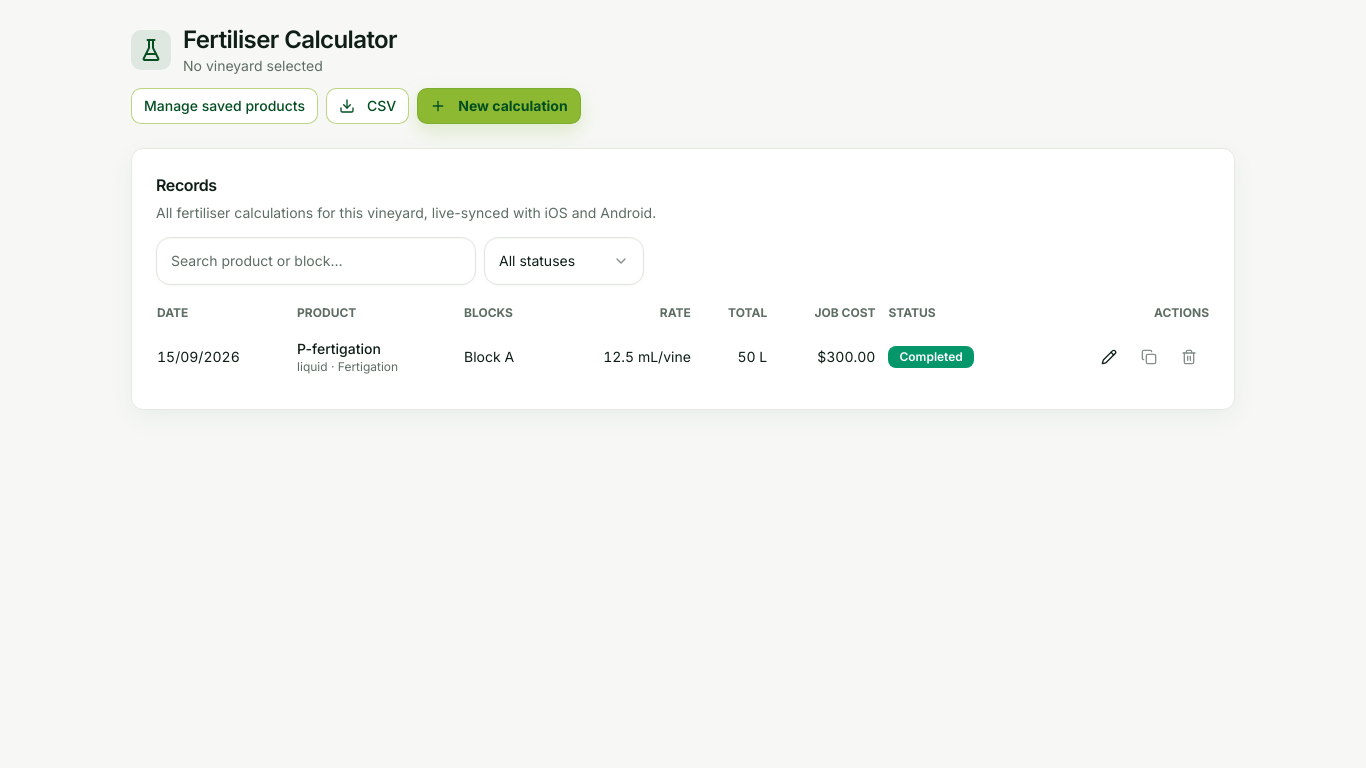
it: opening an unsupported record › fertigation and unknown modes are equally read-only
The width and height of the screenshot is (1366, 768).
Later steps or results of the test are not shown.
Step 1. Click the button titled "View (read-only" → (1109, 357), box [1089, 337, 1129, 377]
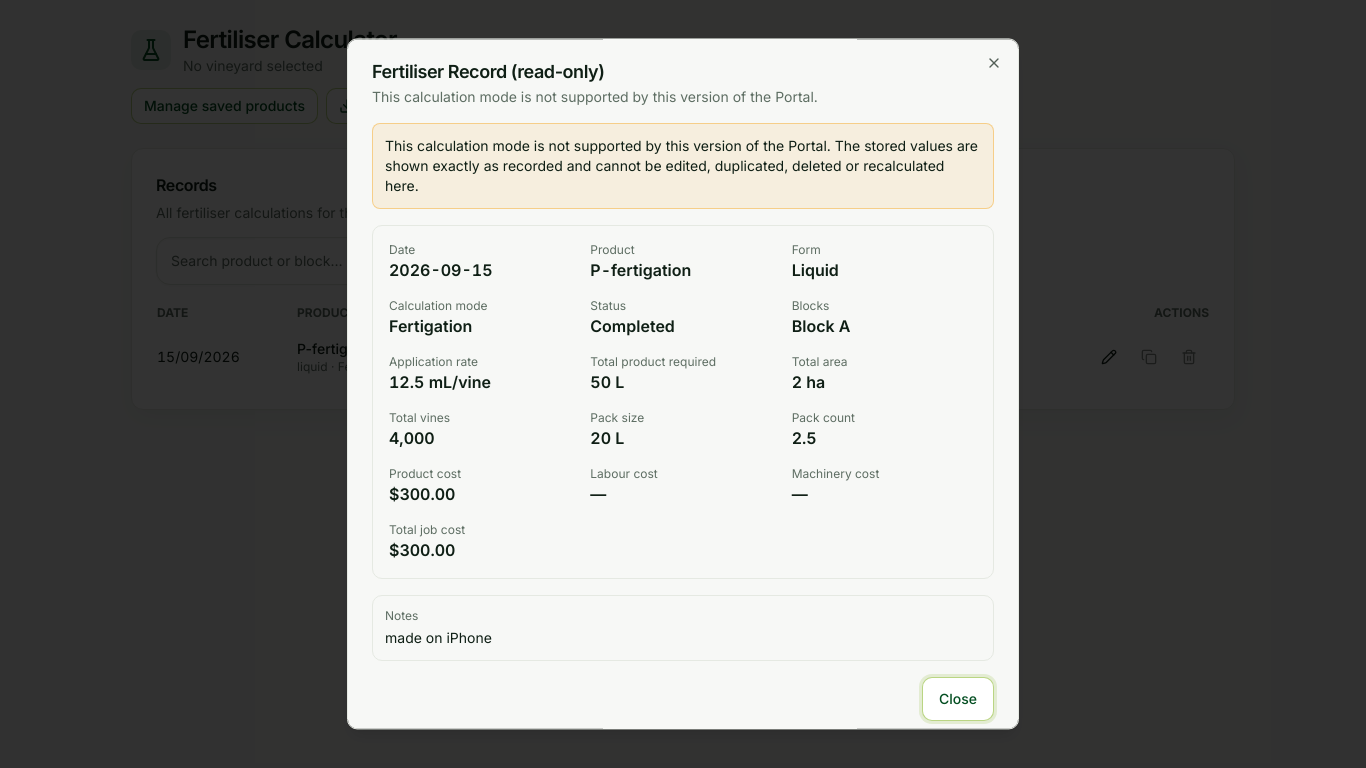
Expected: the text "Fertigation" is shown, [389, 316, 472, 336]
